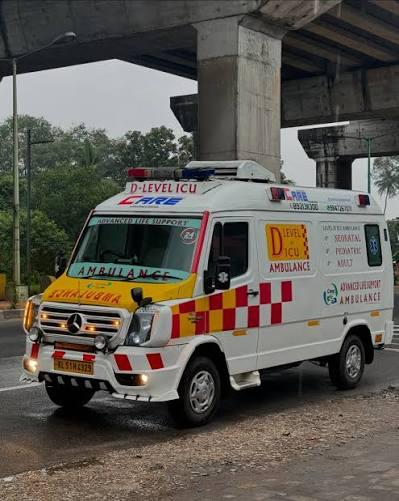ambulance: (23, 156, 391, 427)
